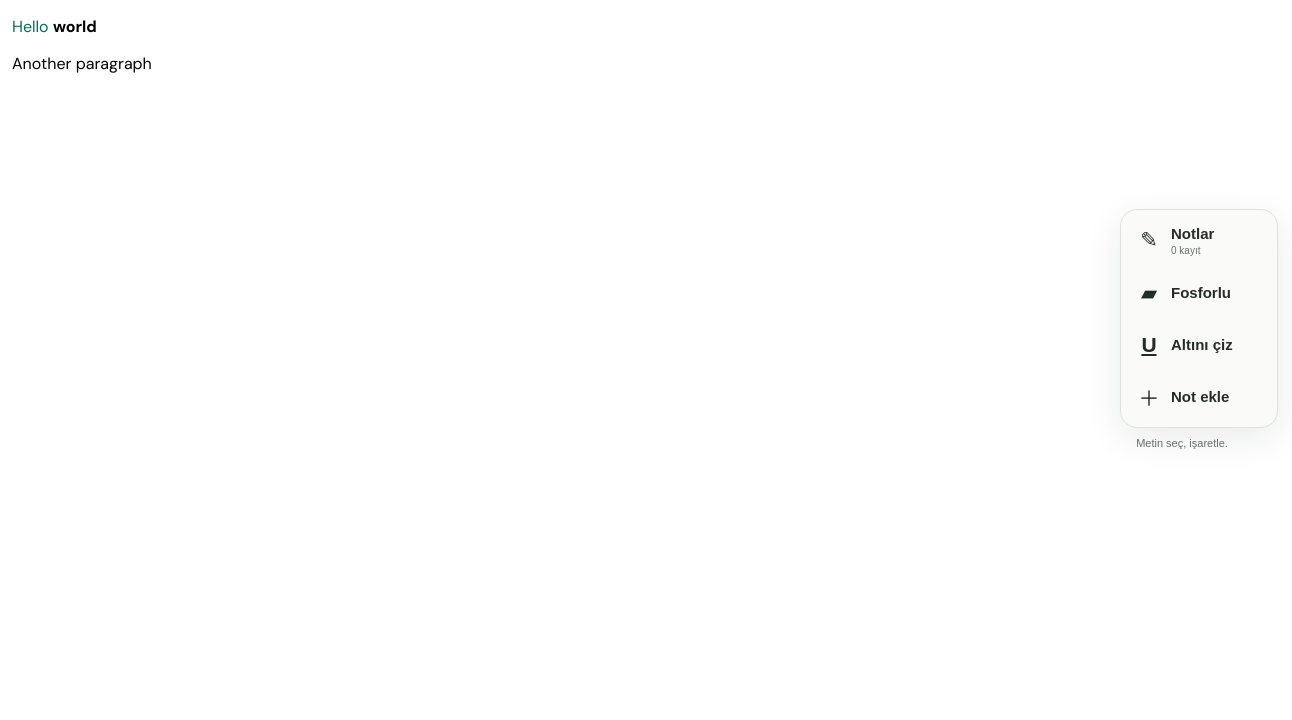
Scenario: browser-local reading tools › reports storage failures while retaining the new mark in the current session
What coordinates should you click on to do the following:
click the button with aria-label "Seçili metnin altını çiz"
I would click on:
 (1199, 345)
Its box is [1127,321,1271,369].
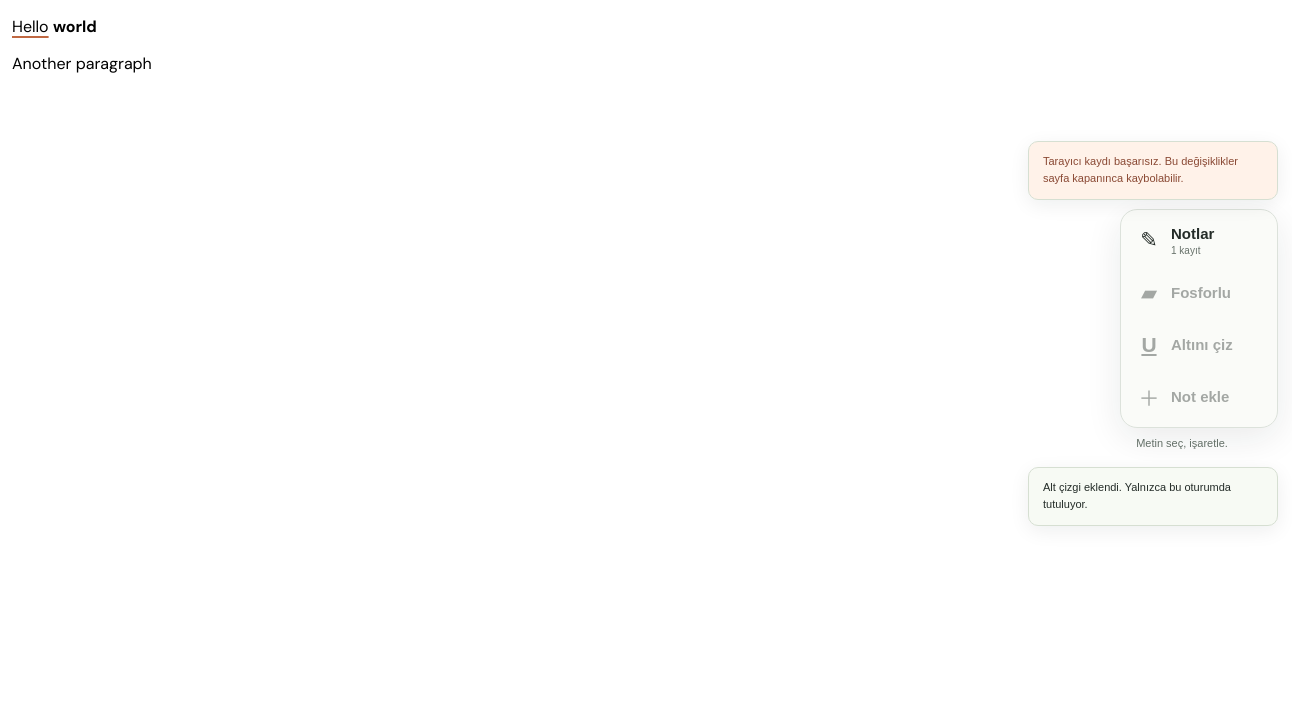
expect the message "Tarayıcı kaydı başarısız. Bu değişiklikler sayfa kapanınca kaybolabilir." is shown: met, box [1028,141,1278,200]
expect the message "Alt çizgi eklendi. Yalnızca bu oturumda tutuluyor." is shown: met, box [1028,467,1278,526]
What coordinates should you click on to do the following:
click the button "✎ Notlar 1 kayıt"
I would click on:
 (1199, 240)
Its box is [1127,216,1271,265].
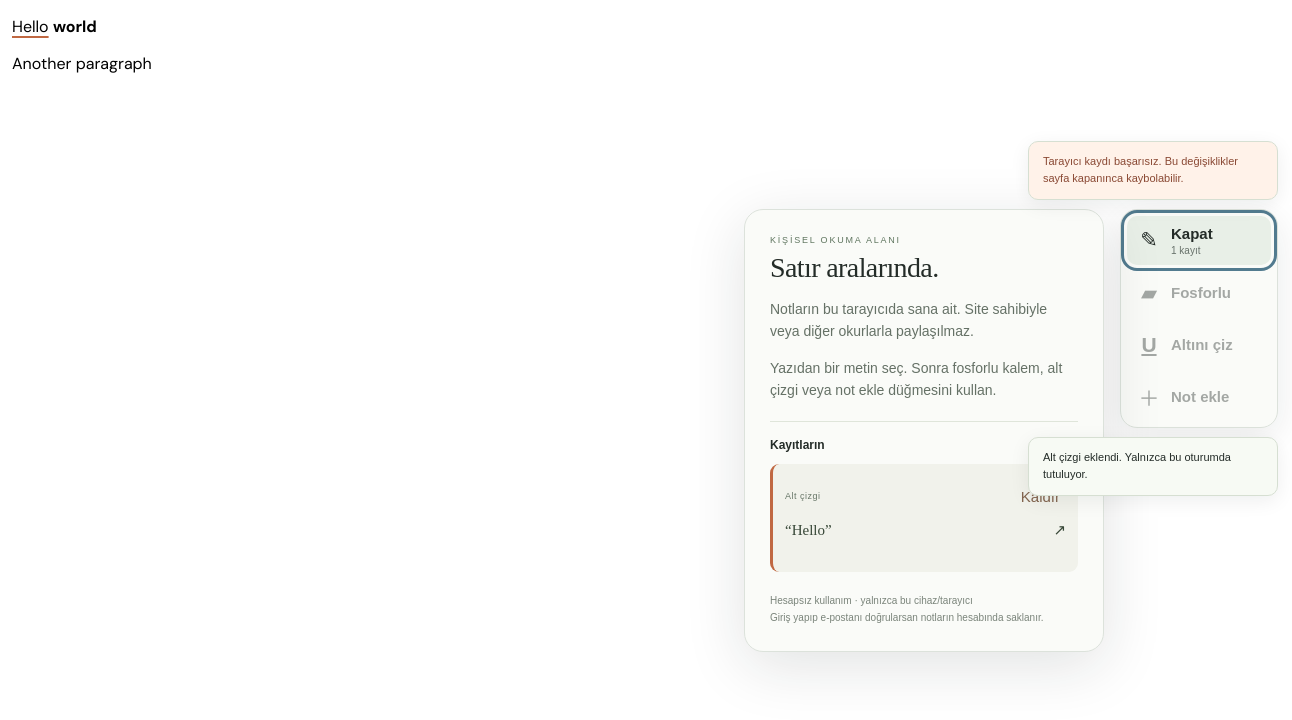
expect the button with aria-label "1. kaydı kaldır" is shown: met, box [1015,474,1066,518]
